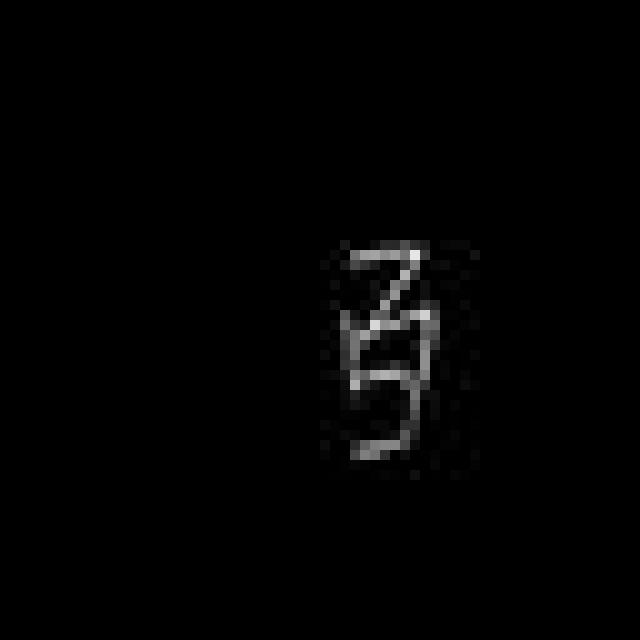100 -a hundred-: (323, 233, 449, 460)
